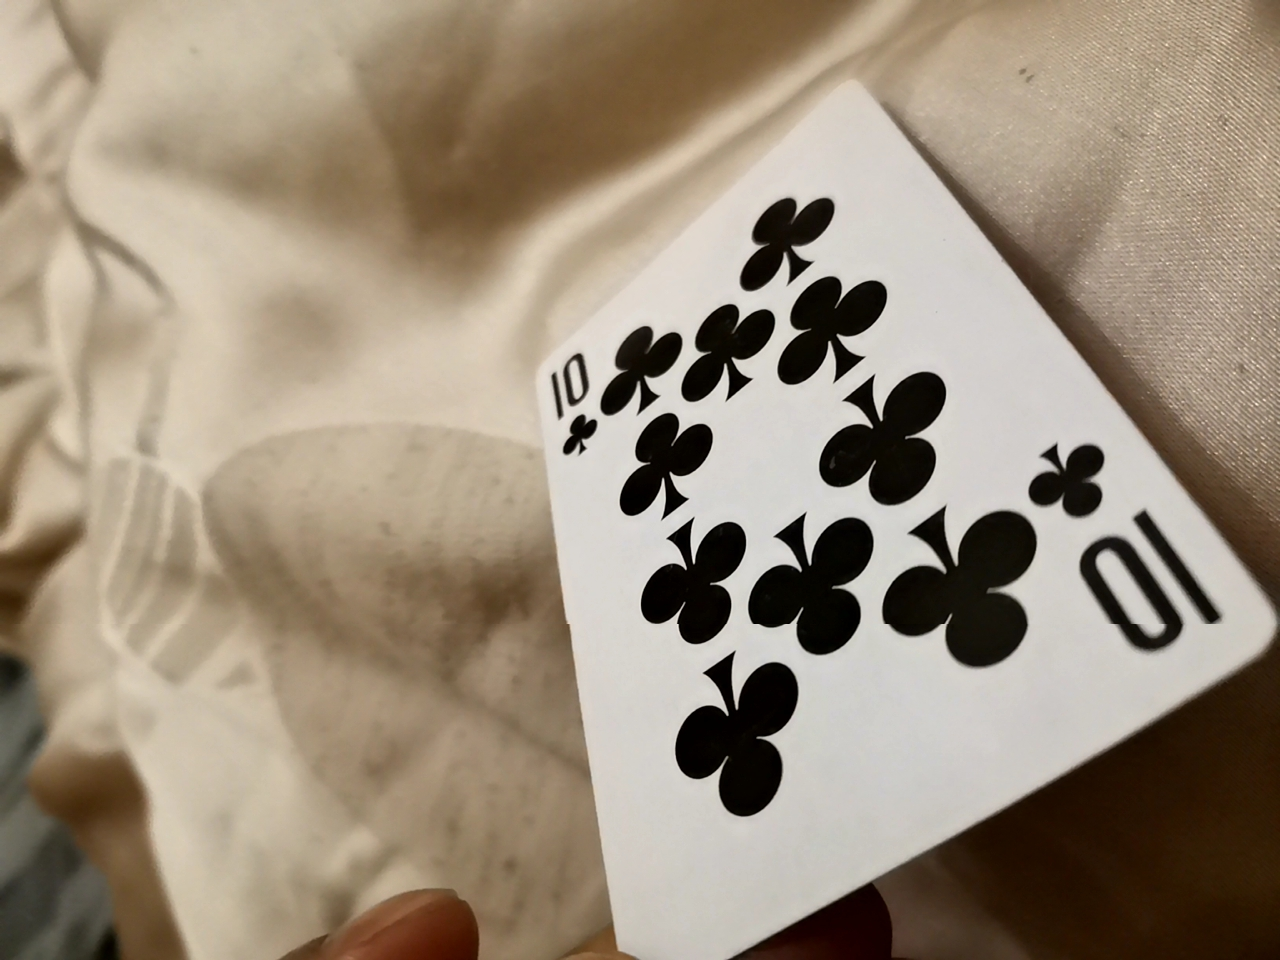mh 10: (479, 52, 1255, 943)
